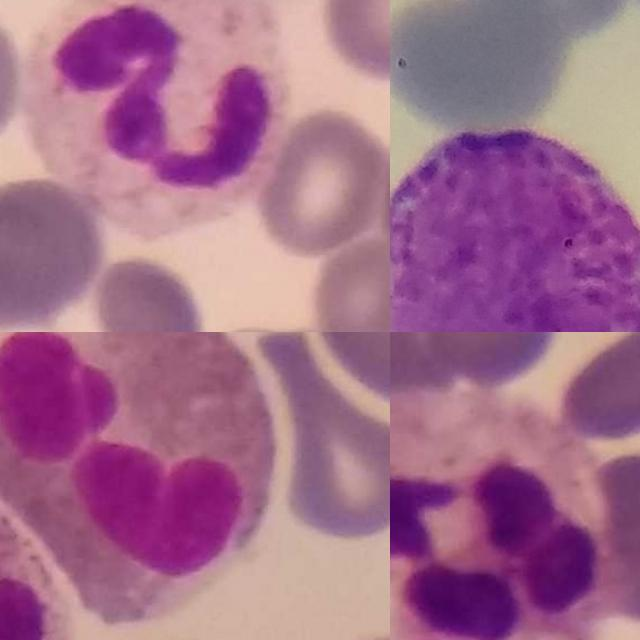Basophil: (390, 127, 640, 332)
Eosinophil: (0, 332, 278, 628)
Neutrophil: (26, 0, 291, 235), (390, 391, 604, 640)
